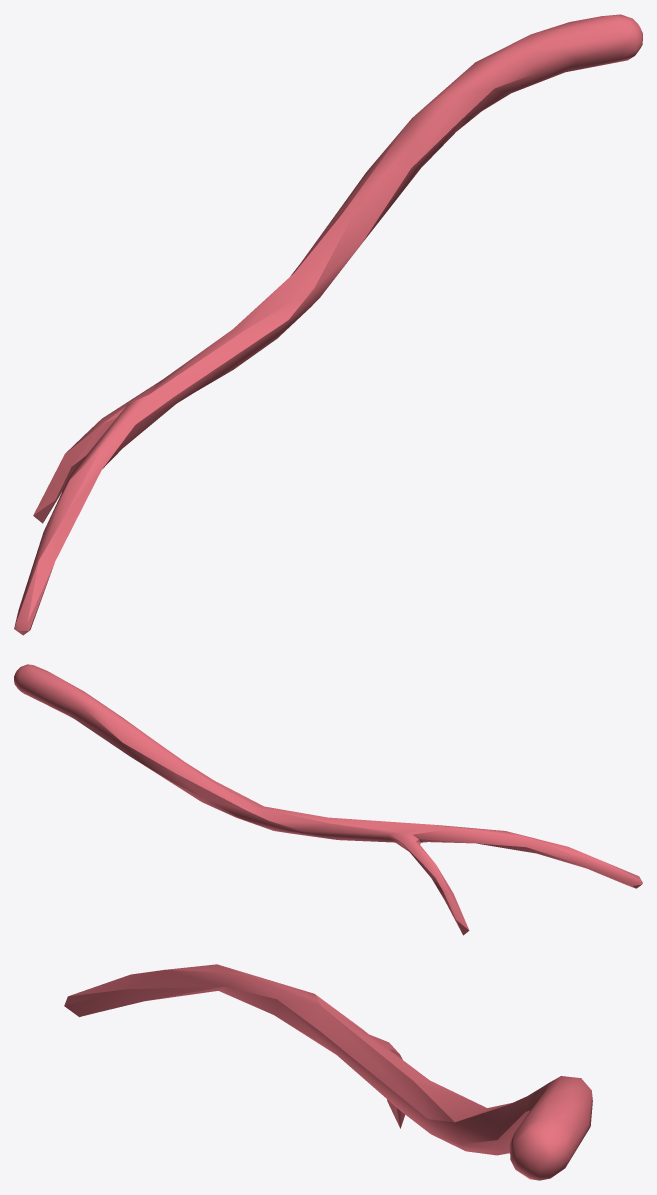
File: fma75886_fj5130.glb
The picture shows the model from 3 angles, top to bottom: view 1: azimuth 30°, elevation 25°; view 2: azimuth 150°, elevation 25°; view 3: azimuth 270°, elevation 25°; orthographic projection. The views are drawn at different scales.
Visible parts, largest first — view 1: FMA75886_FJ5130; view 2: FMA75886_FJ5130; view 3: FMA75886_FJ5130.
Part boxes in pixels (x1,y1,x2,y2): FMA75886_FJ5130: (14, 14, 642, 635); FMA75886_FJ5130: (14, 664, 642, 935); FMA75886_FJ5130: (64, 964, 592, 1180).
Size of the model in its own units: 0.0221 by 0.00817 by 0.00988.
